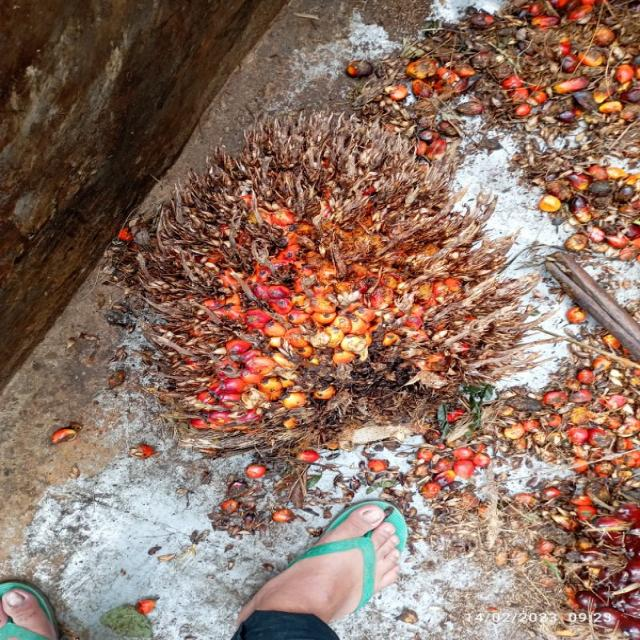fraksi 4: (70, 98, 565, 472)
